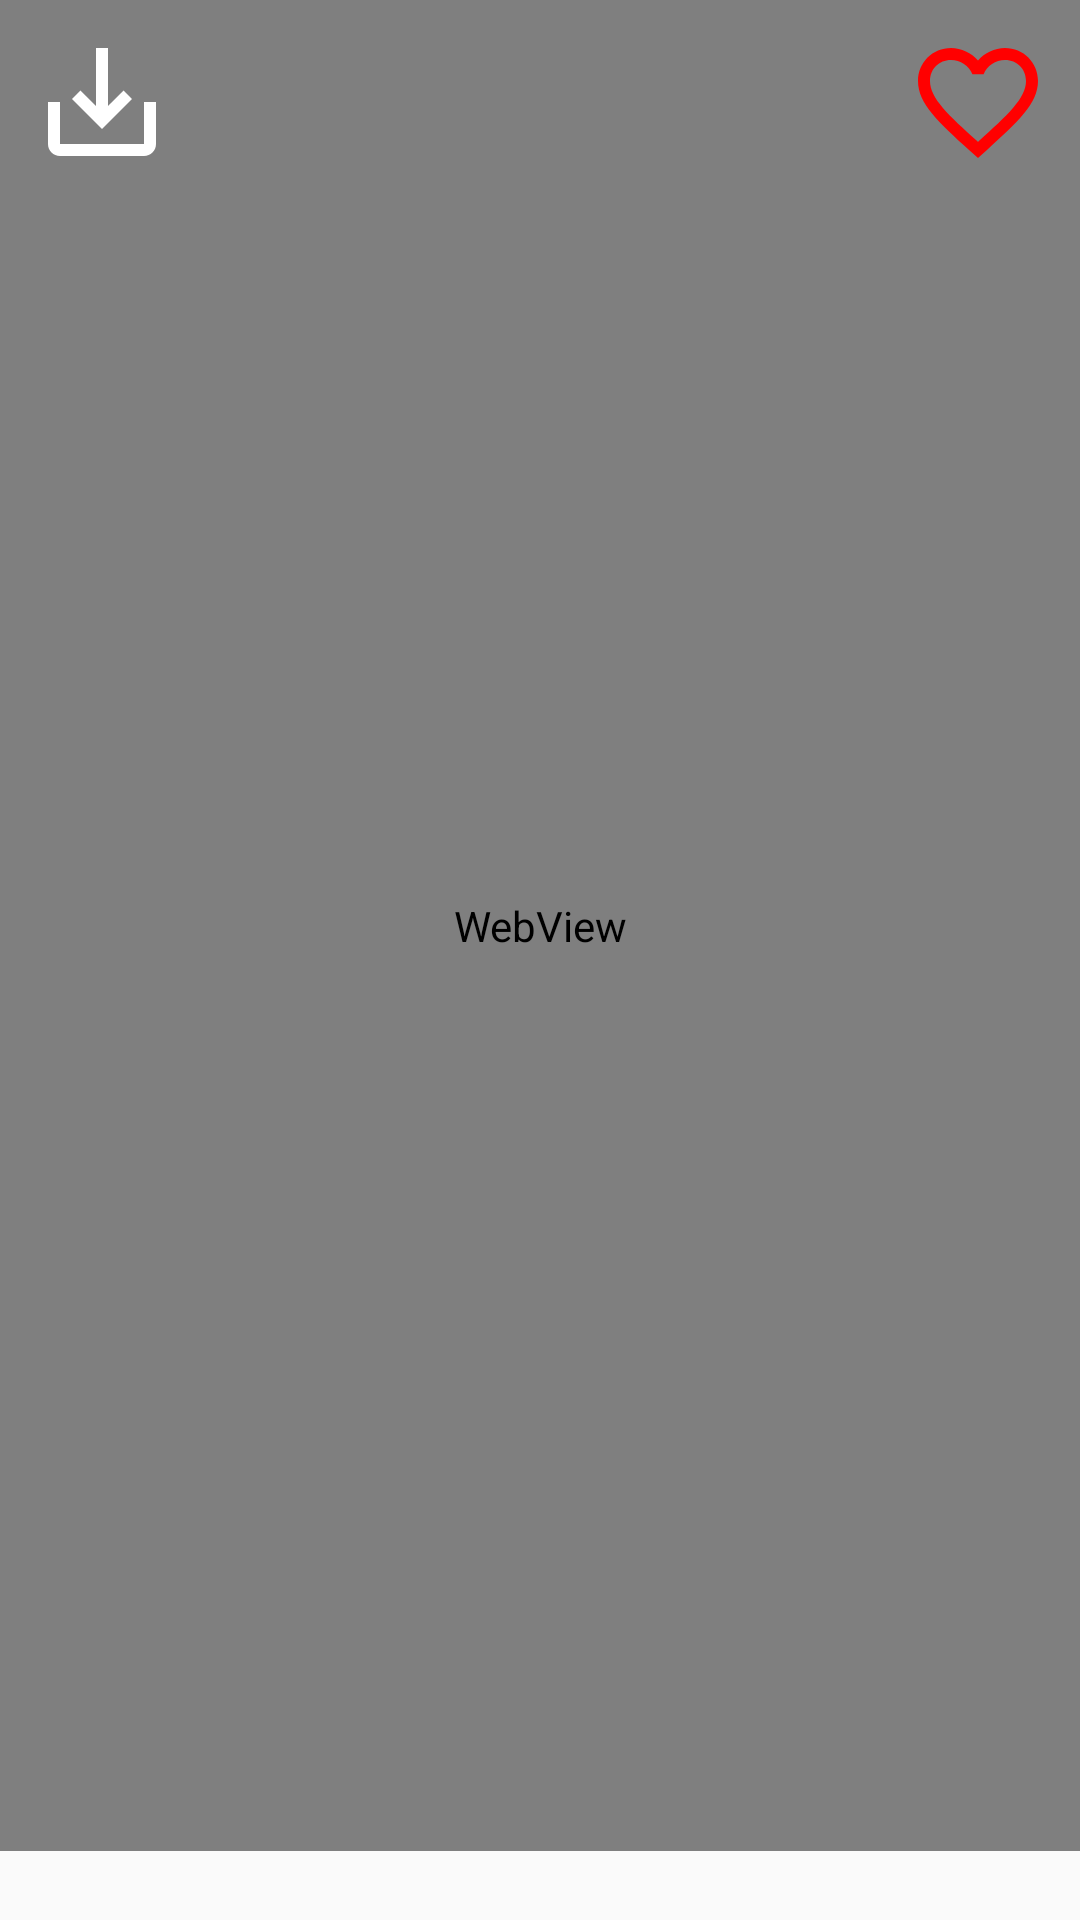

Icon click points for this 1080px x 1920px phone screenshot, format point (x, y):
save: point (102, 102)
